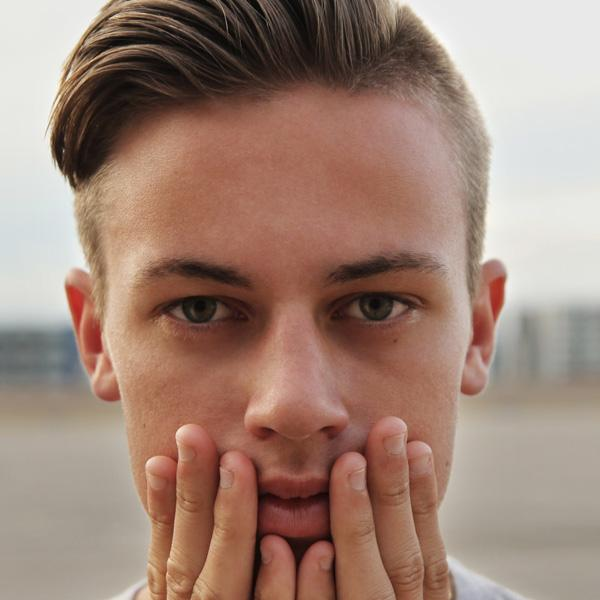Eyes: (144, 281, 261, 345), (320, 280, 434, 340)
